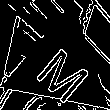M_NE: (29, 32, 94, 100)
